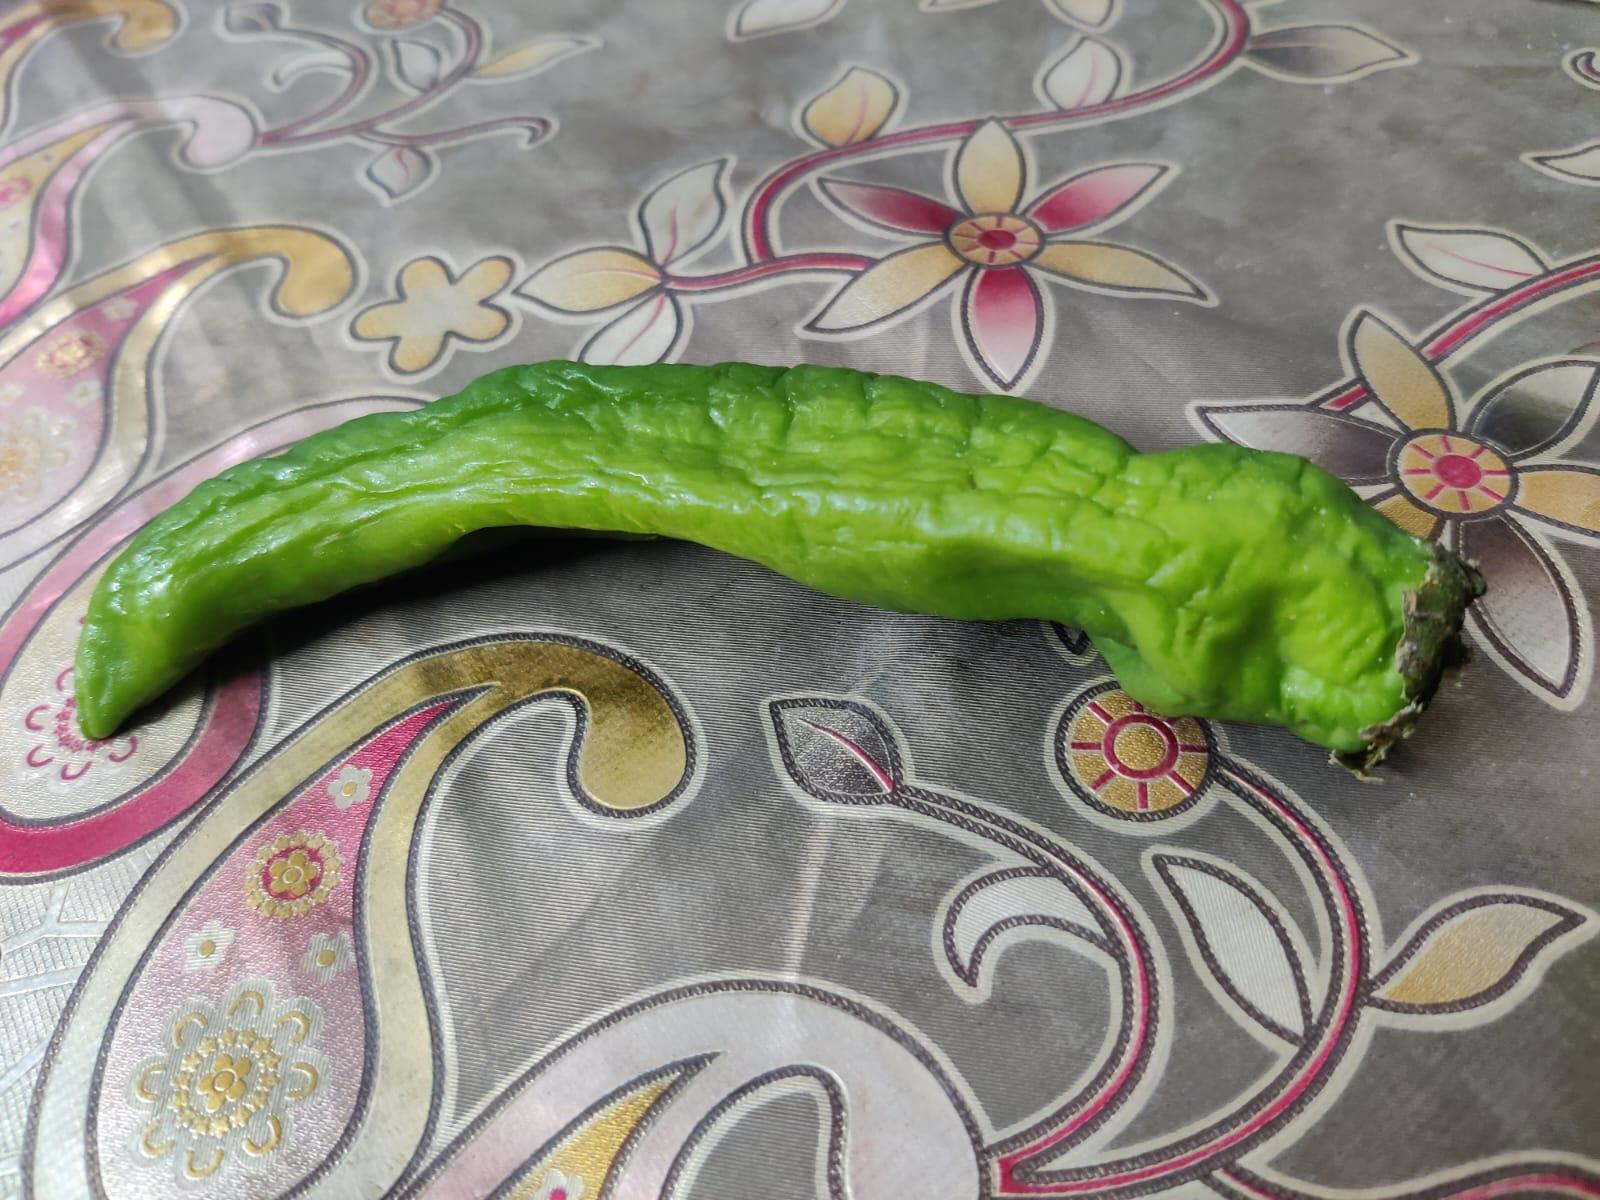non-mango: (40, 361, 1492, 770)
